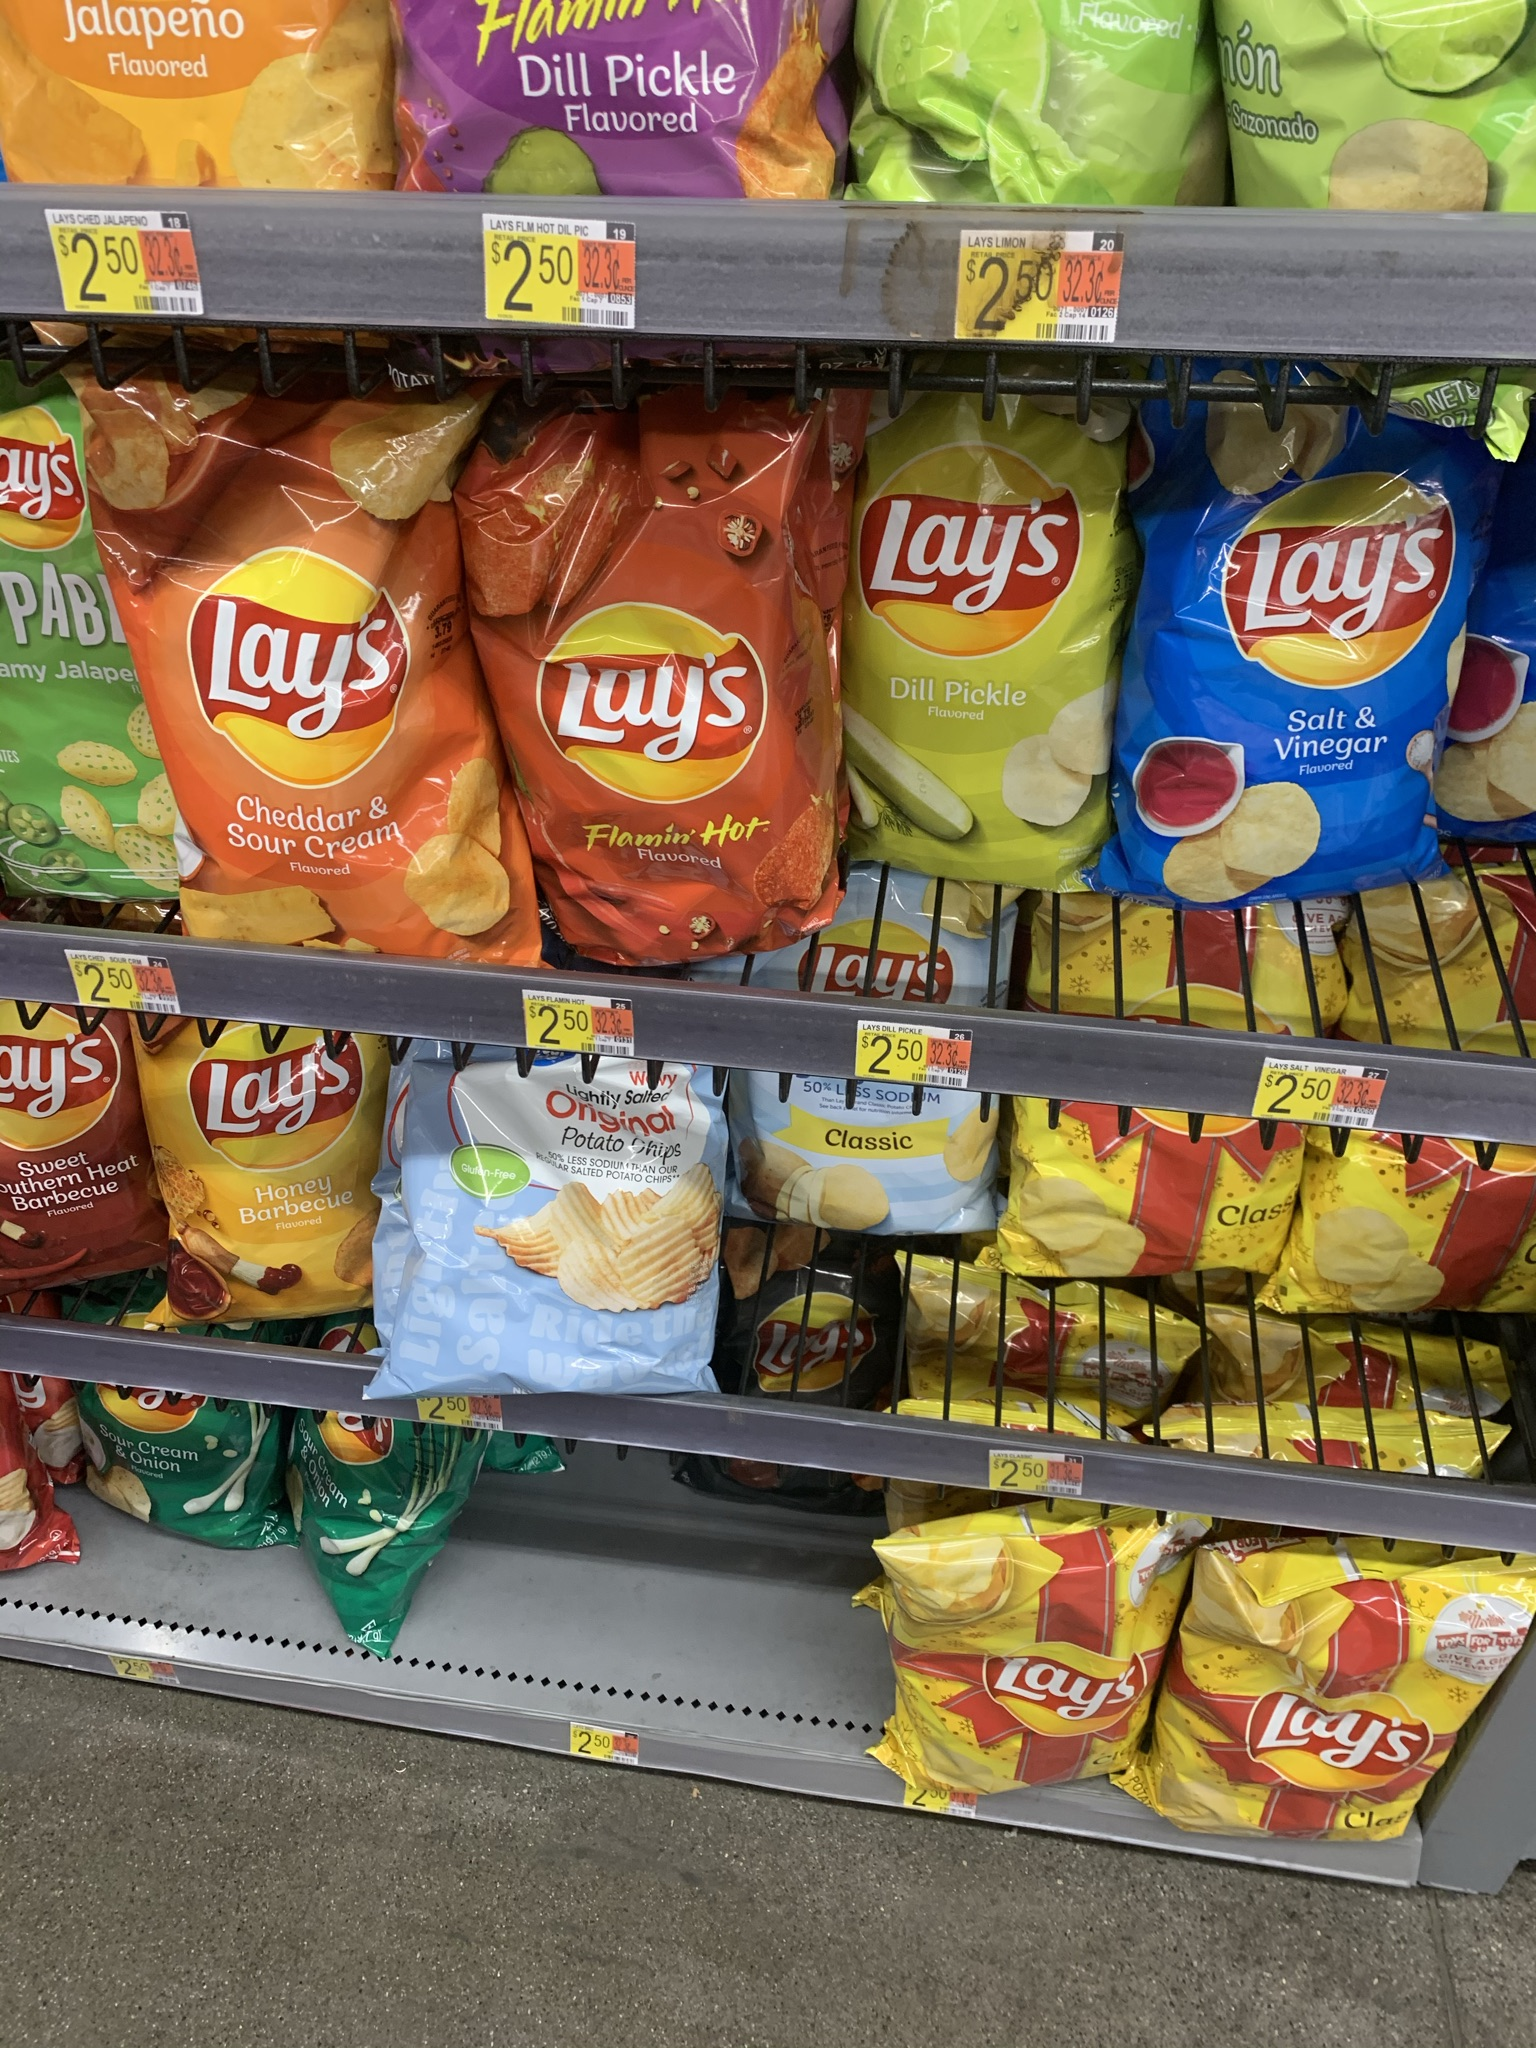Chips: (478, 414, 833, 956), (123, 395, 466, 942), (1136, 393, 1452, 910), (852, 393, 1108, 893), (381, 1056, 752, 1393), (1191, 1517, 1488, 1856), (889, 1514, 1152, 1792), (153, 1009, 374, 1300)
